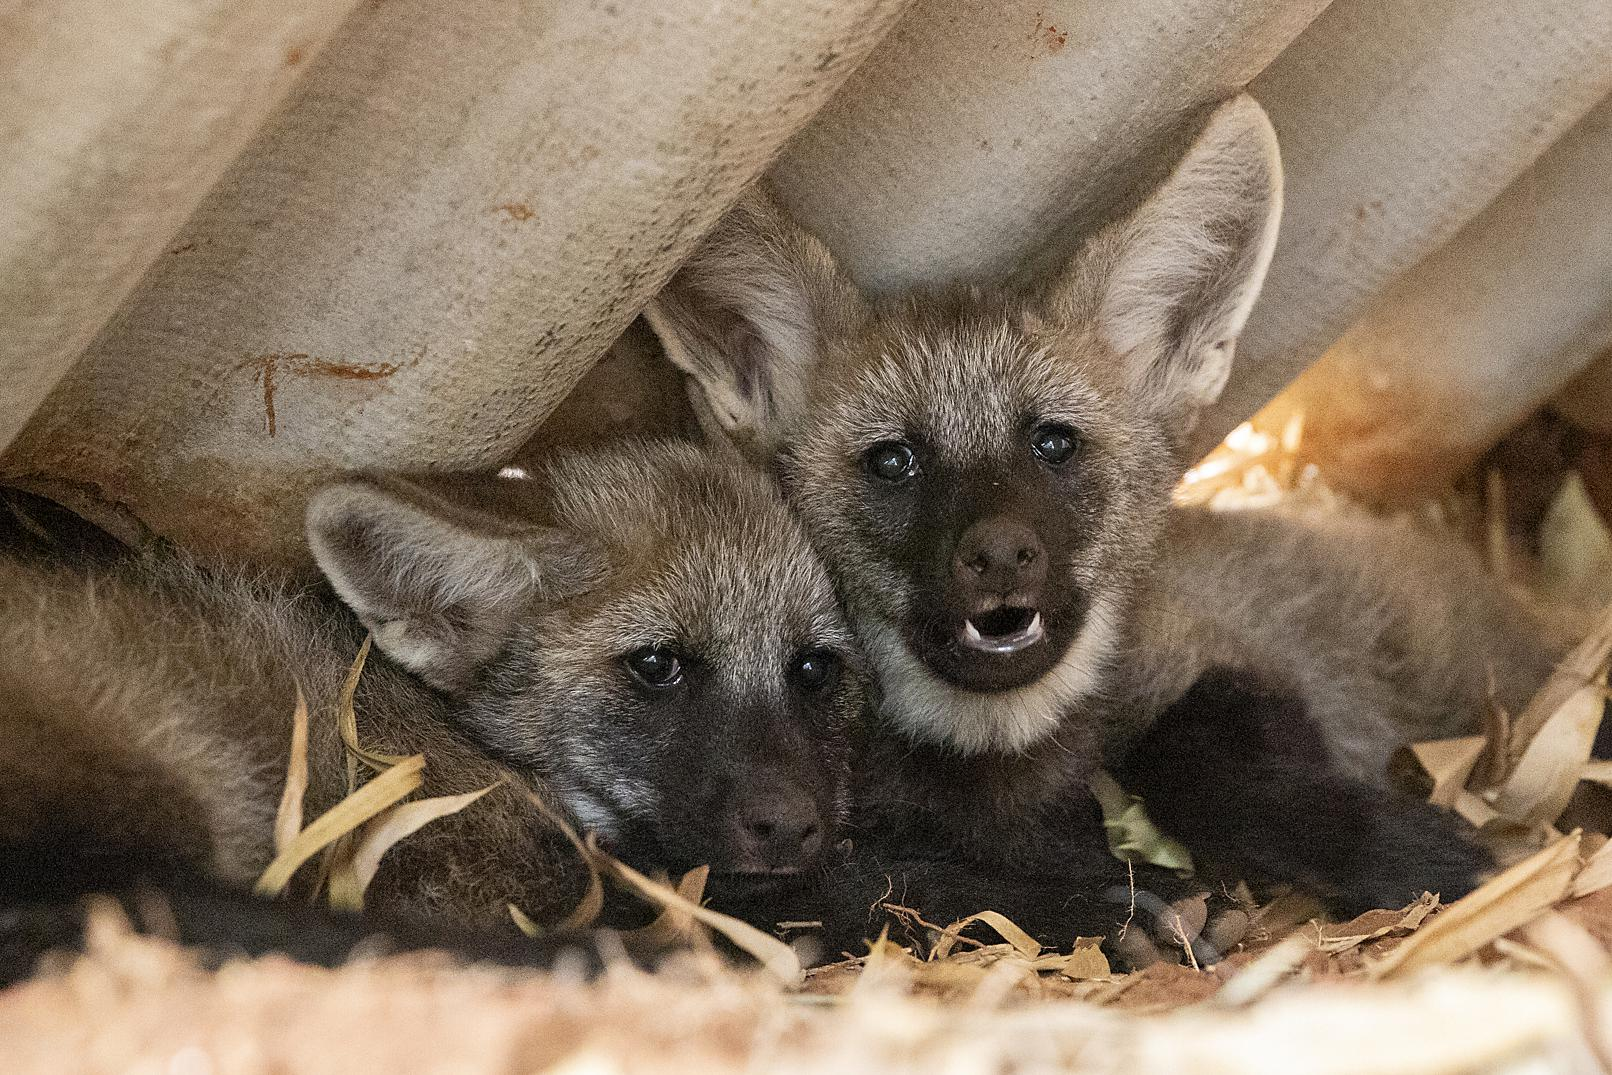LoboGuara: (788, 190, 1516, 901), (43, 421, 852, 968)
